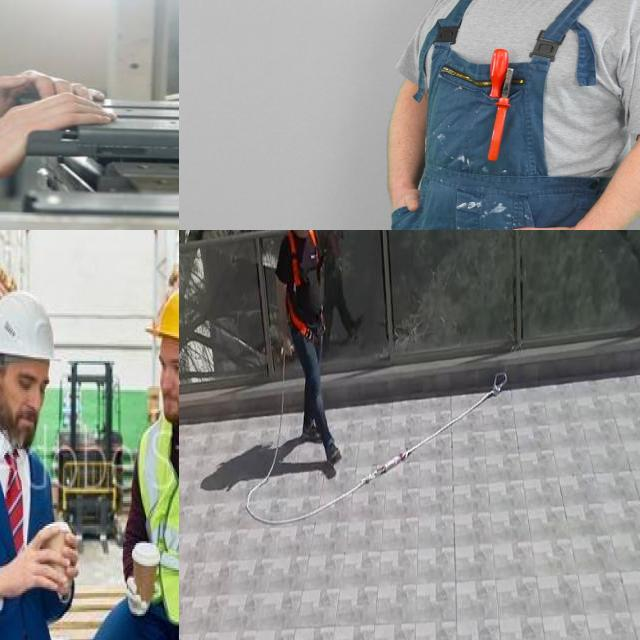Harness: (246, 373, 508, 526)
No_Glasses: (8, 363, 57, 401), (151, 349, 179, 383)
person: (0, 0, 105, 230)
